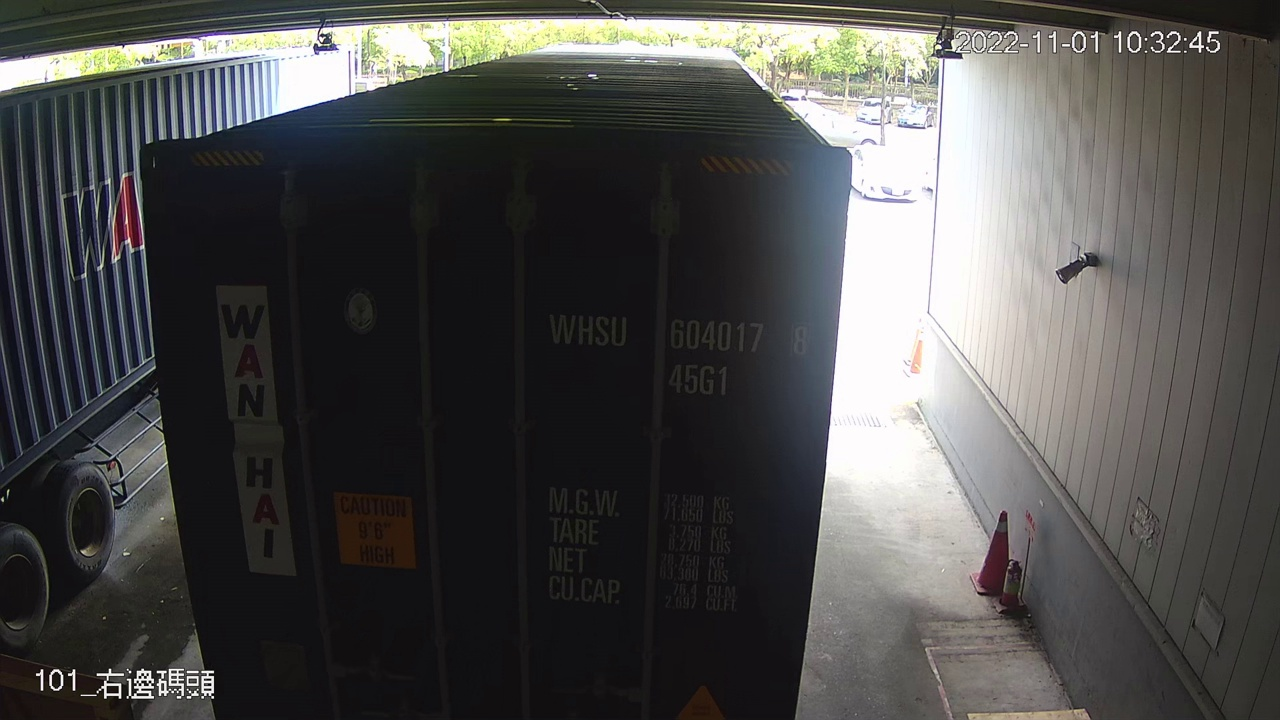container: (539, 304, 819, 400)
